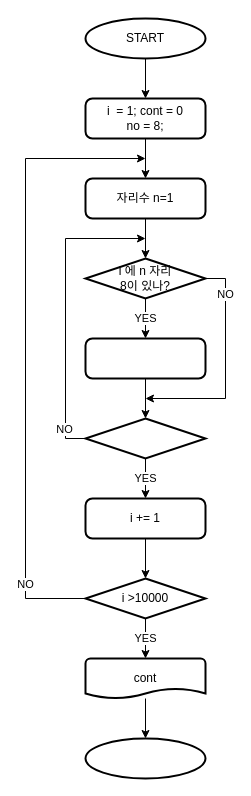
Image size: 251x796. Some labels were removed from this diagram. Each missing label, with the centre of its shape:
"cont +=1" belongs at [145,358].
"END" belongs at [145,758].
"i의 확인할 자리가 없나?" belongs at [145,438].
